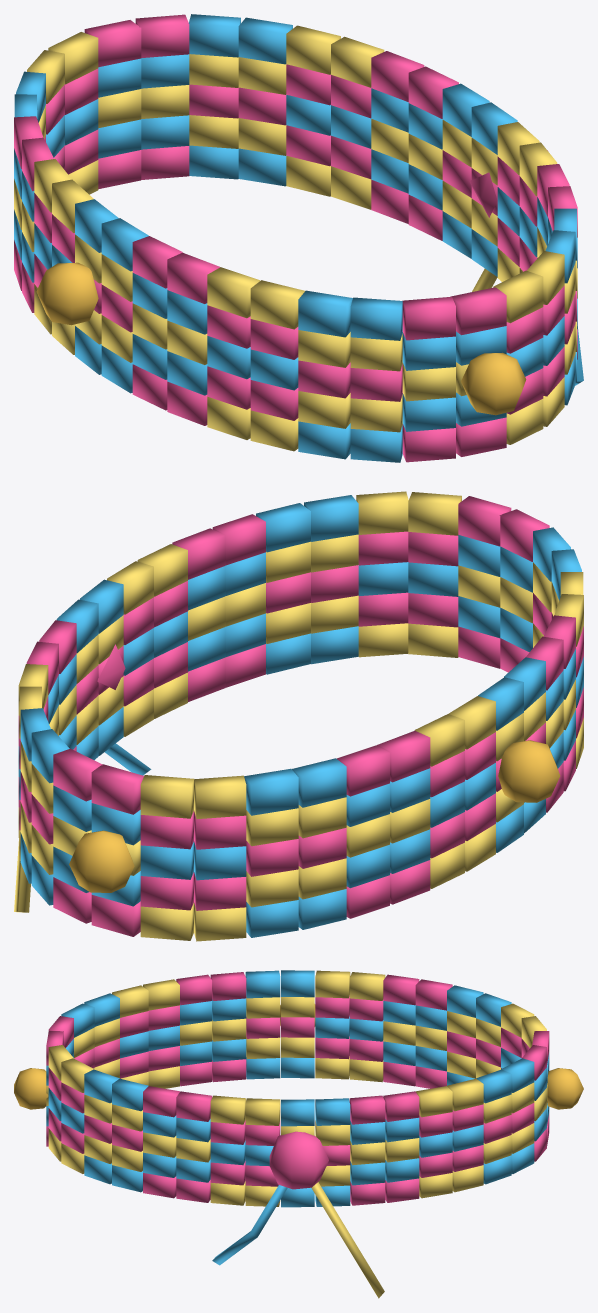
File: friendship_bracelet.glb
3 renders of one model, top to bottom at view 1: azimuth 30°, elevation 25°; view 2: azimuth 150°, elevation 25°; view 3: azimuth 270°, elevation 25°, orthographic. The views are drawn at different scales.
Parts seen in each view (by area): view 1: friendship_bracelet; view 2: friendship_bracelet; view 3: friendship_bracelet.
Boxes of the visible parts, x1,y1,x2,y2 form: friendship_bracelet: [14, 14, 583, 462]; friendship_bracelet: [14, 491, 583, 941]; friendship_bracelet: [14, 970, 583, 1298].
Bounding box in the file's own units: 0.053 × 0.0277 × 0.0765.
